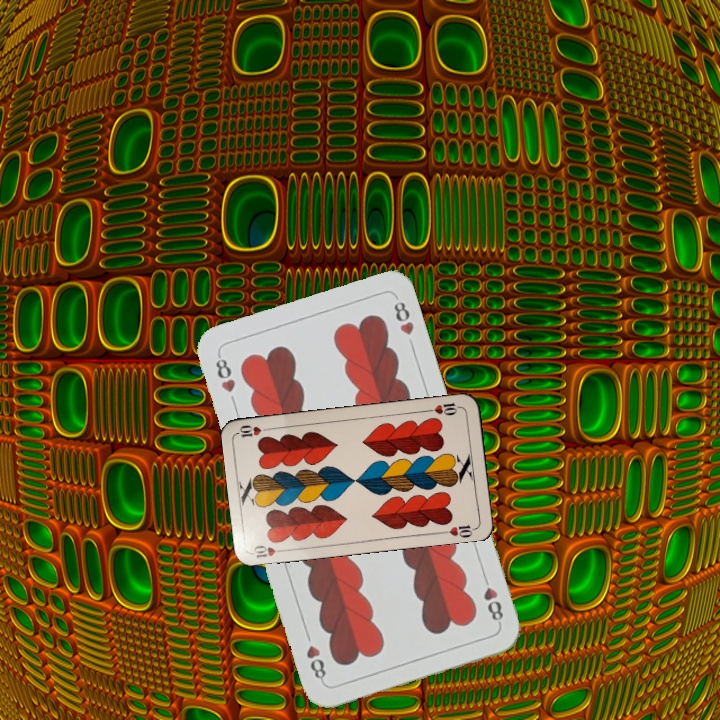H10: (423, 399, 463, 418), (250, 541, 290, 560)
H8: (478, 570, 506, 628), (211, 350, 238, 395)
